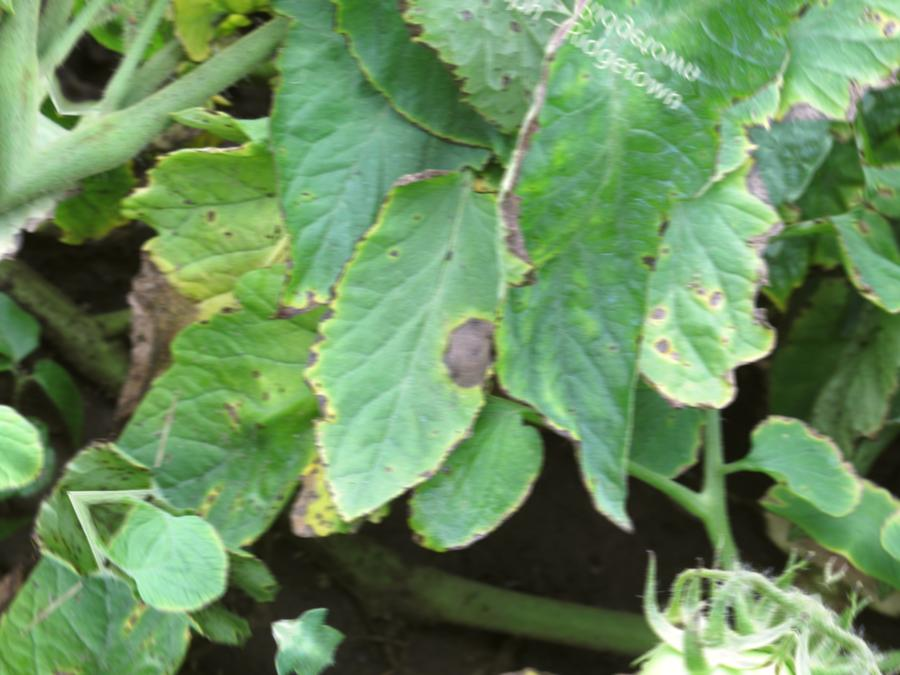Tomato Early blight leaf: (347, 9, 867, 537), (232, 138, 597, 543), (88, 264, 397, 592)
